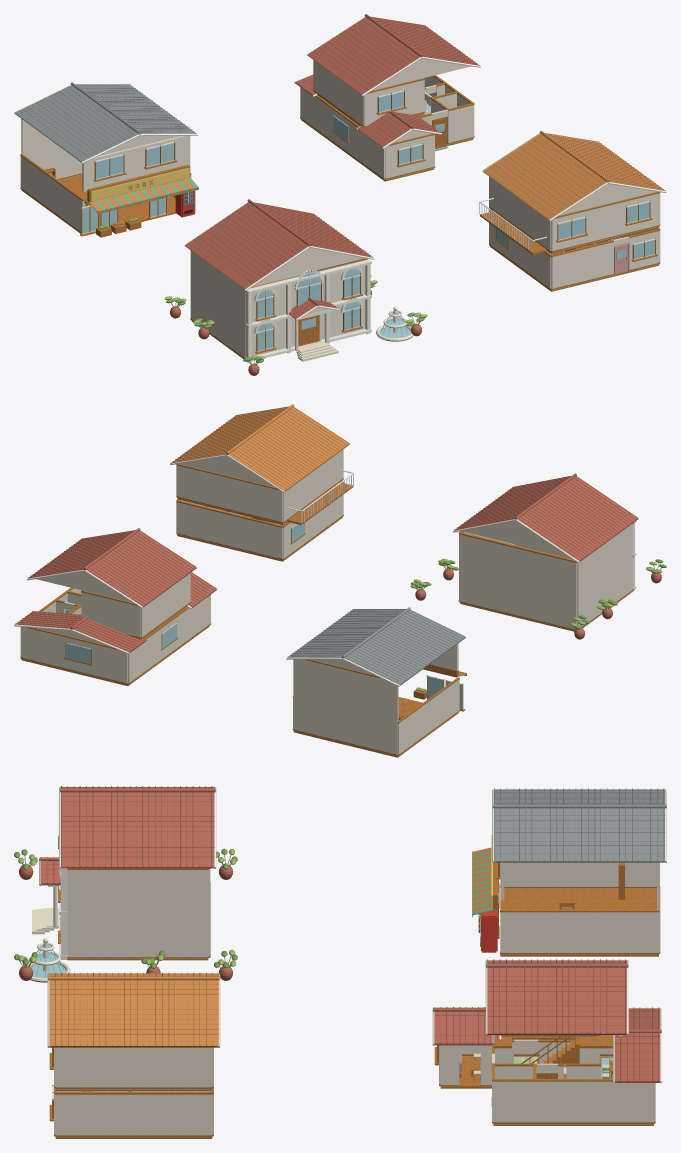
The model's file is neighborhood-v21.glb.
The picture shows the model from 3 angles, top to bottom: view 1: azimuth 30°, elevation 25°; view 2: azimuth 150°, elevation 25°; view 3: azimuth 270°, elevation 25°; orthographic projection. The views are drawn at different scales.
Visible parts, largest first — view 1: v11_suneo, v11_gian, v11_home_roof, v11_shizuka_roof, v11_home_lower, v11_shizuka_upper_front, v11_shizuka_front, v11_shizuka_upper, v11_home_front, v11_home_upper_front, v11_shizuka_lower, v11_home_upper (+2 smaller); view 2: v11_suneo, v11_gian, v11_home_roof, v11_shizuka_roof, v11_home_lower, v11_shizuka_upper, v11_shizuka_lower, v11_home_upper, v11_shizuka_balcony, v11_home_front; view 3: v11_suneo, v11_gian, v11_home_roof, v11_home_lower, v11_shizuka_roof, v11_shizuka_lower, v11_shizuka_upper, v11_home_upper, v11_home_stairs.
Part boxes in pixels (x1=…): v11_suneo: x1=164, y1=199, x2=427, y2=375; v11_gian: x1=14, y1=82, x2=198, y2=237; v11_home_roof: x1=294, y1=14, x2=480, y2=148; v11_shizuka_roof: x1=482, y1=130, x2=666, y2=221; v11_home_lower: x1=300, y1=75, x2=474, y2=181; v11_shizuka_upper_front: x1=551, y1=191, x2=659, y2=252; v11_shizuka_front: x1=495, y1=228, x2=659, y2=290; v11_shizuka_upper: x1=489, y1=176, x2=660, y2=253; v11_home_front: x1=332, y1=103, x2=474, y2=167; v11_home_upper_front: x1=364, y1=78, x2=424, y2=127; v11_shizuka_lower: x1=489, y1=210, x2=660, y2=291; v11_home_upper: x1=313, y1=60, x2=424, y2=127; v11_suneo: x1=410, y1=473, x2=666, y2=639; v11_gian: x1=286, y1=607, x2=466, y2=757; v11_home_roof: x1=14, y1=528, x2=217, y2=654; v11_shizuka_roof: x1=170, y1=404, x2=350, y2=492; v11_home_lower: x1=20, y1=587, x2=211, y2=685; v11_shizuka_upper: x1=176, y1=449, x2=343, y2=524; v11_shizuka_lower: x1=176, y1=482, x2=343, y2=561; v11_home_upper: x1=81, y1=573, x2=190, y2=639; v11_shizuka_balcony: x1=287, y1=469, x2=354, y2=524; v11_home_front: x1=64, y1=622, x2=178, y2=665; v11_suneo: x1=14, y1=786, x2=237, y2=982; v11_gian: x1=472, y1=788, x2=666, y2=956; v11_home_roof: x1=432, y1=959, x2=661, y2=1083; v11_home_lower: x1=439, y1=1039, x2=655, y2=1125; v11_shizuka_roof: x1=47, y1=972, x2=220, y2=1047; v11_shizuka_lower: x1=55, y1=1088, x2=213, y2=1138; v11_shizuka_upper: x1=55, y1=1047, x2=213, y2=1090; v11_home_upper: x1=493, y1=1035, x2=622, y2=1048; v11_home_stairs: x1=521, y1=1035, x2=579, y2=1078.
Size of the model in its own units: 32.41 by 7.58 by 33.32.
25 materials, 3 textured.
